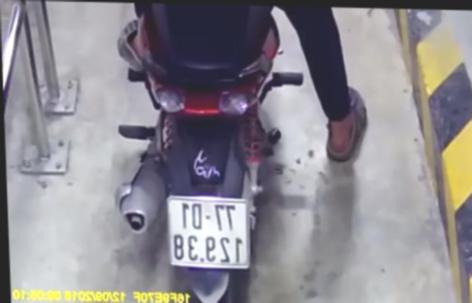License_Plate: (155, 194, 258, 272)
